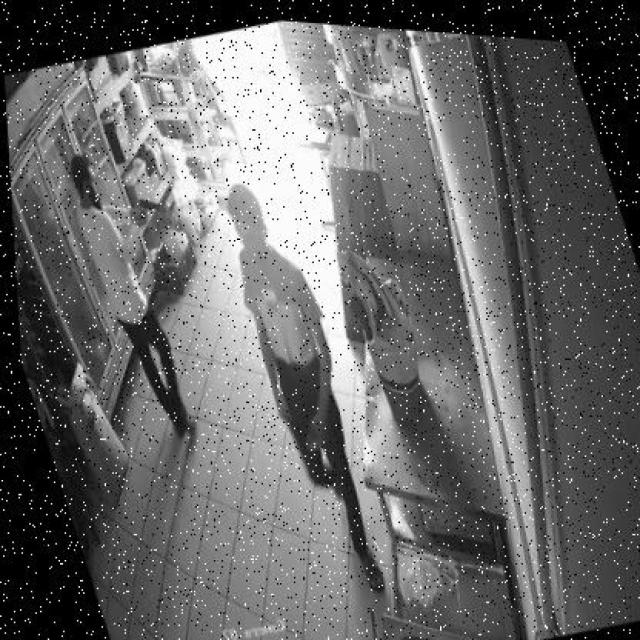weapon: (134, 198, 166, 220)
